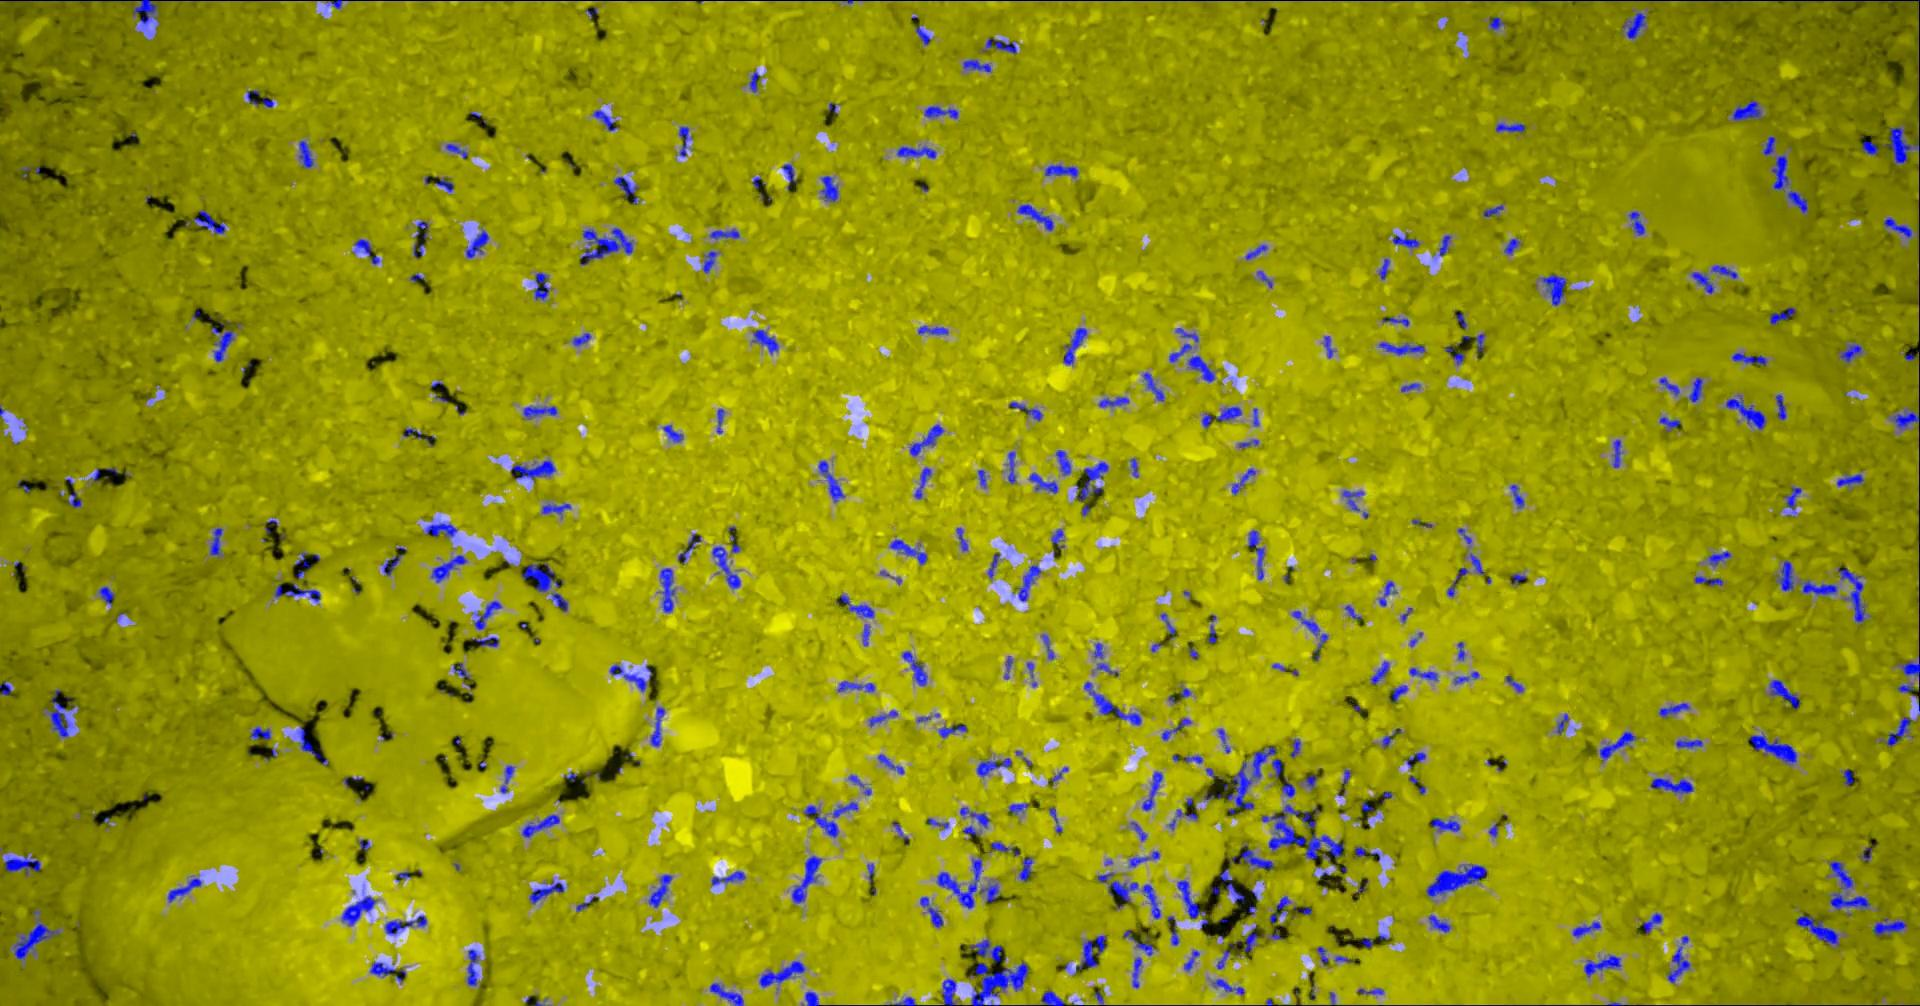ant: (1223, 746, 1276, 814), (936, 857, 998, 908), (1083, 681, 1142, 724), (1426, 862, 1486, 895), (579, 227, 632, 264), (1291, 610, 1327, 661), (14, 920, 58, 959), (1837, 567, 1864, 621), (791, 855, 822, 902), (1724, 395, 1765, 429), (1882, 127, 1919, 164), (1796, 915, 1839, 945), (1749, 735, 1796, 763), (1076, 461, 1109, 500), (48, 688, 74, 737), (711, 546, 740, 588), (759, 960, 804, 987), (521, 563, 563, 591), (297, 727, 328, 765), (1228, 843, 1272, 869), (818, 460, 844, 500), (1599, 730, 1636, 760), (1076, 935, 1105, 972), (1177, 880, 1205, 918), (804, 805, 837, 837), (909, 424, 943, 455), (1667, 935, 1689, 982), (430, 554, 466, 582), (610, 664, 646, 691), (1879, 716, 1912, 746), (342, 895, 375, 925), (889, 539, 926, 564), (1017, 205, 1053, 230), (1219, 868, 1244, 903), (1768, 680, 1799, 708), (1876, 0, 1919, 20), (1063, 326, 1086, 365), (521, 814, 559, 837), (1897, 655, 1919, 695), (510, 460, 555, 479), (836, 594, 872, 617), (902, 652, 927, 685), (1247, 530, 1263, 579), (474, 600, 502, 629), (1109, 882, 1138, 909), (1123, 929, 1153, 955), (969, 939, 1004, 962), (1201, 406, 1241, 427), (1142, 771, 1162, 810), (383, 915, 425, 934), (1093, 641, 1117, 674), (168, 878, 201, 902), (1583, 954, 1620, 976), (274, 583, 319, 601), (210, 326, 232, 361), (530, 882, 564, 904), (709, 982, 743, 1005), (1829, 890, 1869, 909), (1018, 565, 1040, 601), (1542, 273, 1566, 305), (648, 874, 670, 907), (4, 855, 41, 875), (193, 210, 225, 232), (919, 895, 942, 927), (1187, 354, 1214, 381), (750, 329, 778, 354), (659, 567, 674, 612), (1142, 883, 1161, 918), (370, 962, 405, 981), (132, 0, 160, 24), (1622, 11, 1646, 39), (613, 177, 637, 205), (1230, 467, 1255, 495), (1829, 860, 1853, 888), (1142, 372, 1164, 401), (677, 533, 700, 563), (1161, 718, 1190, 741), (1650, 777, 1693, 793), (959, 807, 989, 828), (1008, 401, 1043, 420), (977, 757, 1011, 776), (465, 230, 488, 258), (1378, 340, 1423, 354), (354, 239, 378, 264), (1872, 917, 1906, 935), (1269, 895, 1290, 923), (1446, 567, 1467, 596), (1771, 154, 1788, 189), (1732, 99, 1760, 119), (1883, 217, 1911, 238), (1029, 473, 1057, 493), (383, 547, 404, 575), (1801, 579, 1837, 594), (1211, 978, 1244, 995), (650, 708, 664, 746), (1691, 271, 1714, 293), (711, 870, 745, 885), (1785, 189, 1807, 213), (847, 774, 871, 795), (592, 109, 617, 130), (1892, 410, 1919, 429), (985, 37, 1016, 53), (1129, 850, 1159, 866), (1243, 927, 1263, 951), (877, 754, 903, 774), (914, 467, 930, 498), (869, 710, 897, 727), (1572, 921, 1600, 937), (820, 175, 838, 201), (1731, 352, 1766, 365), (1783, 486, 1801, 512), (1378, 580, 1396, 606), (897, 146, 936, 158), (541, 503, 570, 518), (1778, 560, 1793, 589), (246, 90, 273, 107), (1769, 307, 1796, 324), (1217, 942, 1233, 969), (1642, 912, 1662, 934), (1044, 164, 1078, 177), (1168, 343, 1191, 362), (1839, 343, 1862, 362), (425, 522, 456, 536), (1658, 702, 1689, 716), (837, 680, 874, 691), (924, 105, 957, 118), (1342, 490, 1363, 511), (938, 723, 968, 737), (1430, 817, 1459, 831), (533, 272, 549, 298), (1370, 661, 1388, 683), (466, 949, 477, 984), (1628, 211, 1644, 235), (522, 406, 556, 418), (499, 765, 513, 793), (990, 841, 1018, 855), (678, 126, 691, 156), (1444, 345, 1464, 365), (1658, 376, 1679, 395), (1055, 448, 1070, 474), (832, 801, 857, 817), (298, 140, 312, 166), (781, 163, 795, 189), (1836, 473, 1863, 486), (295, 551, 309, 578), (1161, 614, 1176, 638), (662, 424, 682, 442), (1429, 915, 1449, 932), (1708, 550, 1730, 567), (963, 58, 990, 71), (210, 527, 222, 555), (1410, 667, 1437, 680), (1048, 807, 1062, 832), (1244, 244, 1267, 259), (1175, 326, 1197, 342), (1167, 915, 1178, 945), (1041, 989, 1064, 1005), (1392, 234, 1418, 246), (1710, 265, 1737, 278), (1388, 685, 1407, 702), (942, 978, 955, 1005), (1688, 377, 1702, 401), (1018, 857, 1032, 882), (1404, 752, 1425, 768), (1183, 949, 1199, 970), (444, 144, 467, 158), (98, 586, 114, 605), (1495, 122, 1525, 132), (709, 229, 739, 239), (1131, 956, 1142, 987), (987, 553, 999, 577), (1454, 671, 1478, 683), (728, 526, 739, 553), (702, 250, 716, 272), (1658, 417, 1680, 431), (1469, 553, 1483, 574), (1098, 396, 1128, 406), (551, 593, 568, 611), (1505, 674, 1523, 691), (1510, 484, 1523, 507), (1041, 634, 1053, 659), (1130, 821, 1145, 840), (1694, 575, 1722, 586), (917, 325, 949, 334), (1006, 451, 1015, 483), (1556, 713, 1568, 734), (249, 727, 270, 739), (1382, 316, 1408, 326), (471, 636, 498, 647), (1675, 738, 1702, 748), (916, 25, 930, 44), (434, 177, 453, 191), (571, 332, 590, 345), (956, 527, 968, 550), (1208, 614, 1217, 643), (1437, 235, 1450, 255), (1775, 394, 1785, 419), (1503, 238, 1519, 254), (453, 662, 469, 678), (1611, 439, 1620, 467), (1482, 205, 1503, 216), (1378, 258, 1389, 279), (1051, 528, 1064, 547), (1316, 946, 1328, 965), (889, 996, 916, 1005), (1008, 803, 1029, 814), (1862, 140, 1878, 154), (67, 490, 81, 507), (1763, 136, 1775, 154), (1281, 779, 1294, 796), (1323, 335, 1333, 357), (927, 818, 949, 828), (1271, 758, 1283, 777), (803, 991, 818, 1005), (1488, 17, 1505, 29), (415, 220, 427, 238), (716, 408, 724, 433), (1290, 738, 1300, 757), (749, 70, 758, 91), (1843, 768, 1854, 785), (1399, 382, 1420, 391), (1304, 774, 1317, 788), (413, 241, 424, 257), (1510, 573, 1525, 584), (1476, 333, 1484, 352), (403, 428, 422, 437), (1357, 988, 1383, 995), (977, 469, 985, 486), (326, 0, 347, 8), (1457, 641, 1464, 661), (0, 681, 10, 695), (862, 624, 869, 645), (1917, 57, 1919, 117)
